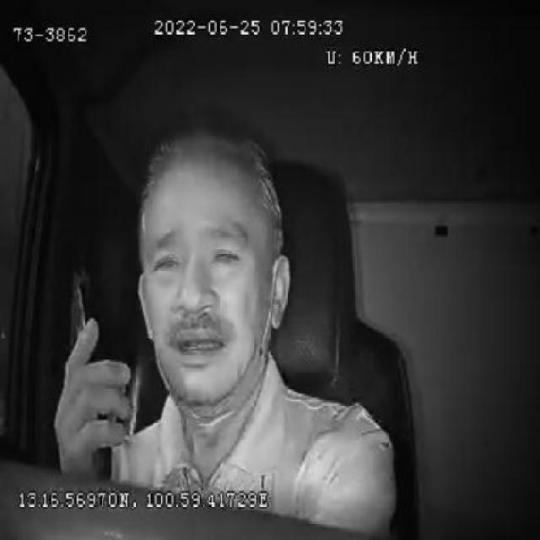phone: (67, 277, 117, 484)
